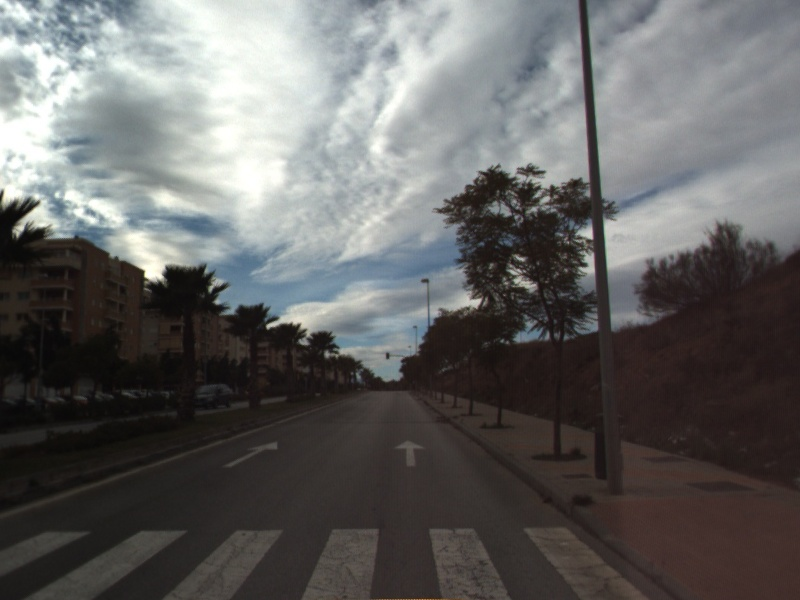STRAIGHT: (221, 439, 280, 469), (392, 438, 428, 468)
